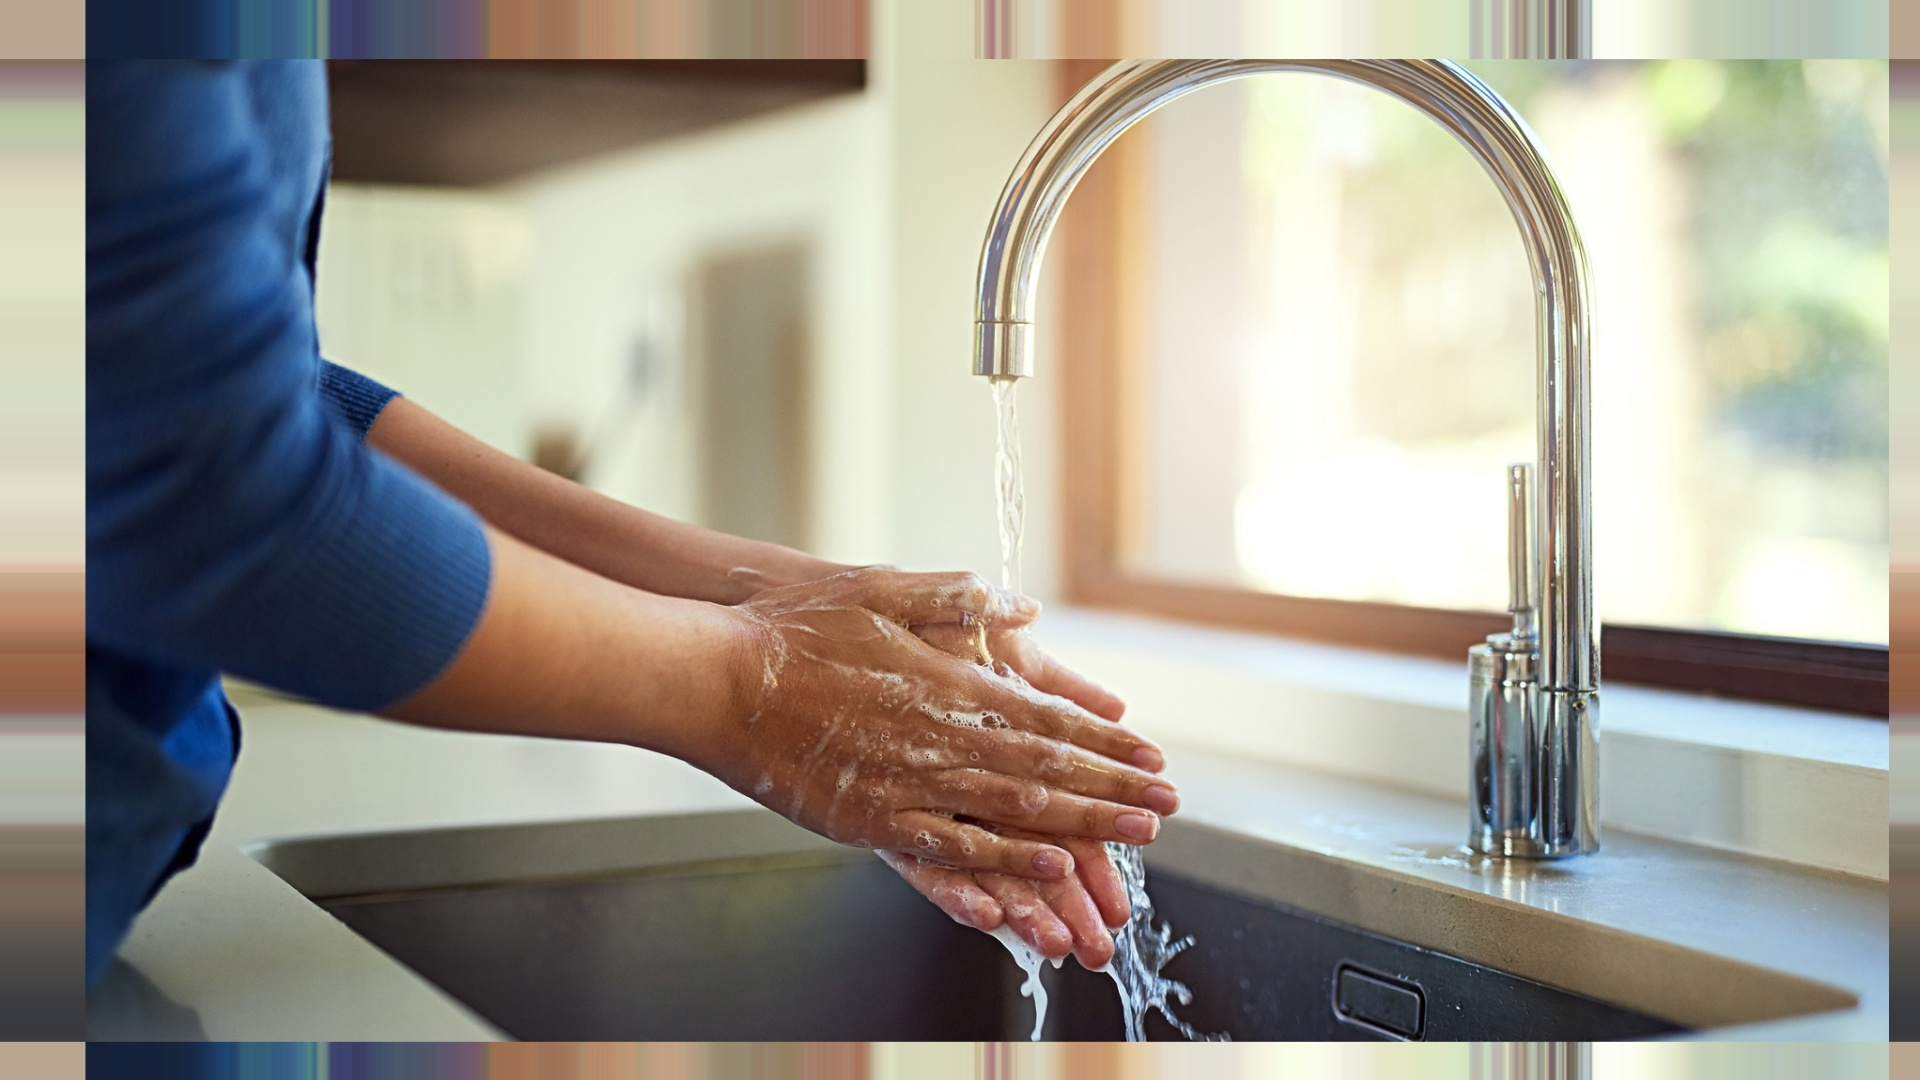washing hand: (723, 103, 1472, 1013)
